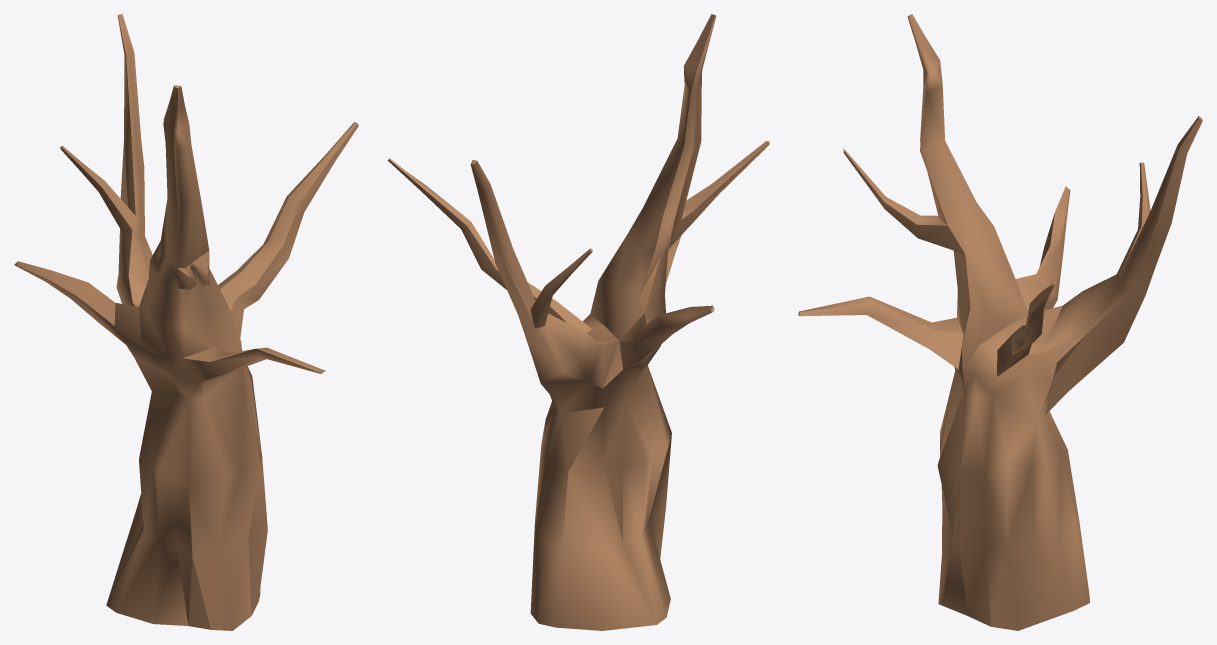
File: doak3.fbx
The picture shows the model from 3 angles, left to right: view 1: azimuth 30°, elevation 25°; view 2: azimuth 150°, elevation 25°; view 3: azimuth 270°, elevation 25°; orthographic projection. The views are drawn at different scales.
Visible parts, largest first — view 1: Trunk.004; view 2: Trunk.004; view 3: Trunk.004.
Part boxes in pixels (box(x1,y1,x2,y2)): Trunk.004: box(14, 14, 358, 630); Trunk.004: box(387, 14, 769, 630); Trunk.004: box(798, 14, 1202, 630).
Size of the model in its own units: 1.62 by 2.64 by 1.74.
